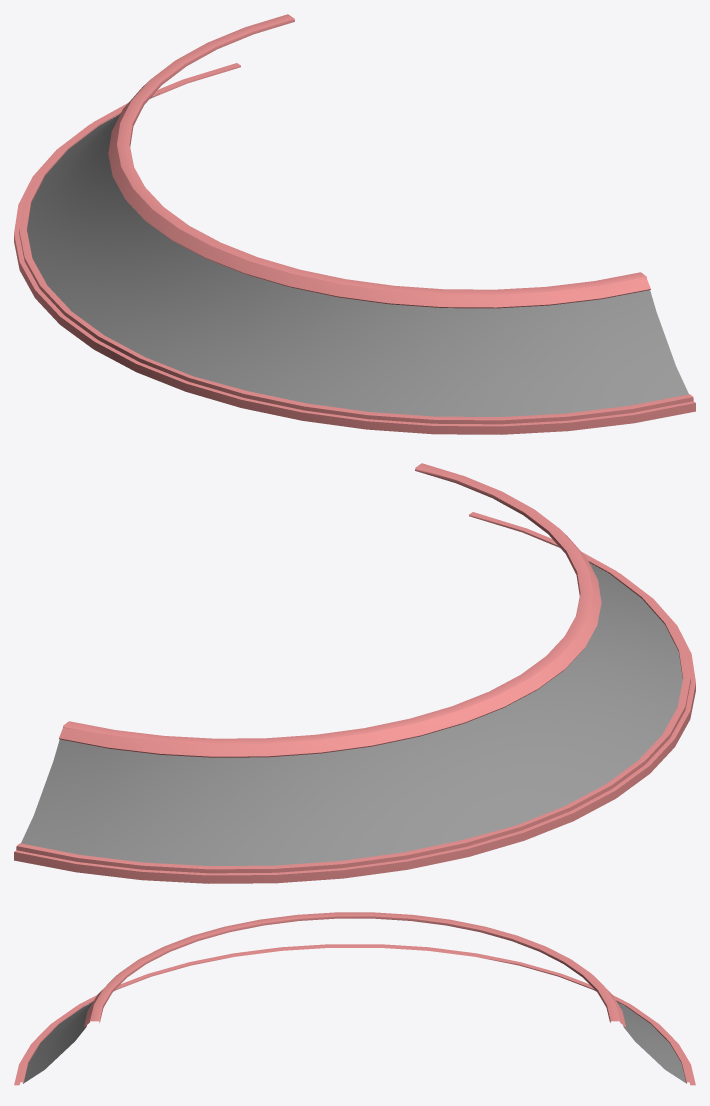
File: SM_ENV_LKNVLD_Ground_Hill_Round_L_Lod2.gltf
3 renders of one model, top to bottom at view 1: azimuth 30°, elevation 25°; view 2: azimuth 150°, elevation 25°; view 3: azimuth 270°, elevation 25°, orthographic. The views are drawn at different scales.
Parts seen in each view (by area): view 1: SM_ENV_LKNVLD_Ground_Hill_Round_L_Lod2; view 2: SM_ENV_LKNVLD_Ground_Hill_Round_L_Lod2; view 3: SM_ENV_LKNVLD_Ground_Hill_Round_L_Lod2.
Part boxes in pixels (bbox=[...]): SM_ENV_LKNVLD_Ground_Hill_Round_L_Lod2: bbox=[14, 14, 695, 434]; SM_ENV_LKNVLD_Ground_Hill_Round_L_Lod2: bbox=[14, 463, 695, 883]; SM_ENV_LKNVLD_Ground_Hill_Round_L_Lod2: bbox=[14, 912, 695, 1085].
Bounding box in the file's own units: 26.61 × 6.27 × 54.44.
